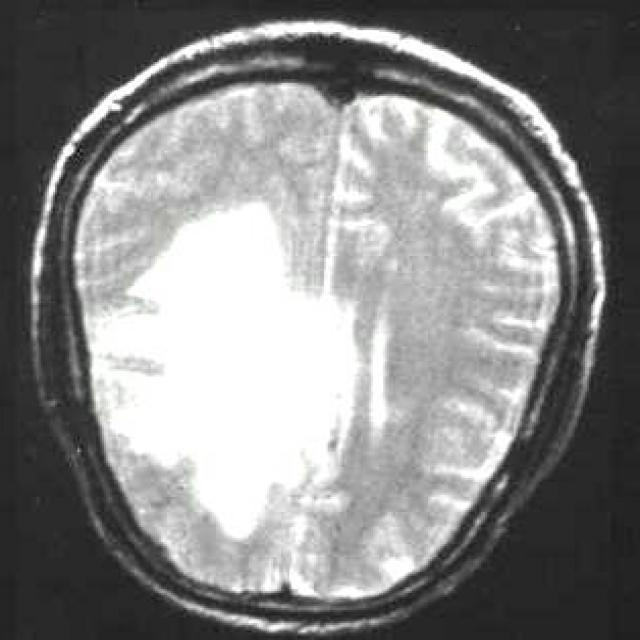tumor: (100, 201, 355, 536)
